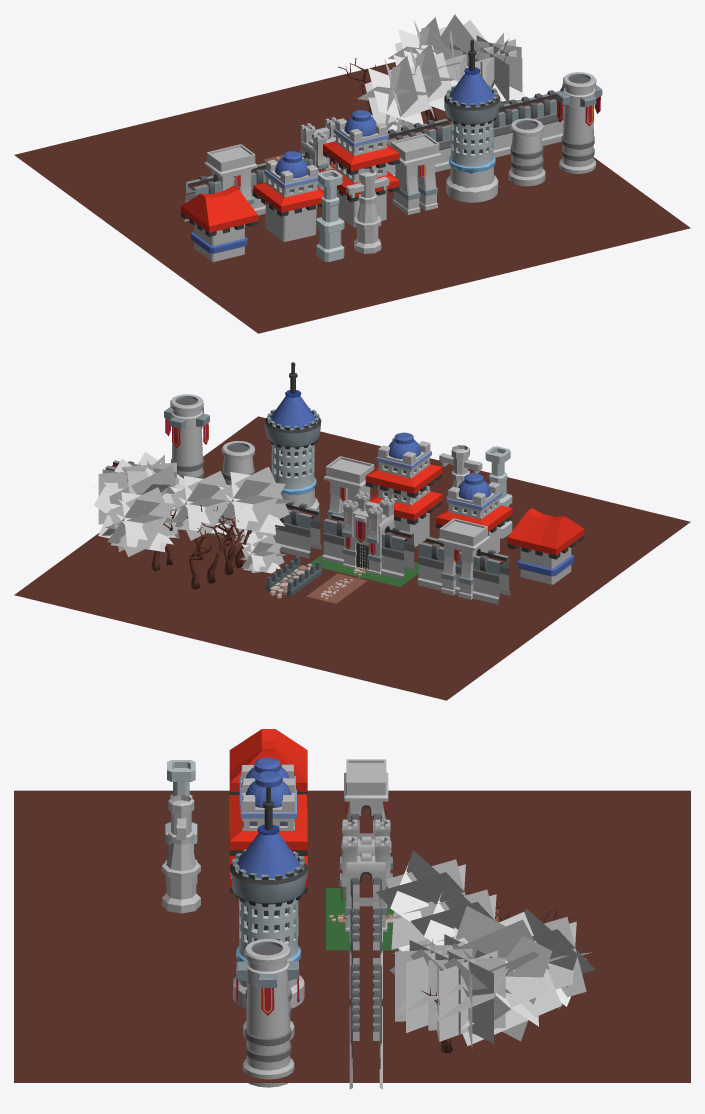
The model's file is TownHall.fbx.
3 views of the same model, one above another, from view 1: azimuth 30°, elevation 25°; view 2: azimuth 150°, elevation 25°; view 3: azimuth 270°, elevation 25° (orthographic). The views are drawn at different scales.
Visible parts, largest first — view 1: Plane, Palace.tower, Palace.tower2, Palace.tower1, Small house, Tower.tall, Vert.003, Wall.tower, Vert.007, Wall_ArcheryTower, Wall.long, Vert.005 (+6 smaller); view 2: Plane, Wall_ArcheryTower, Gate_wall, Vert.005, Palace.tower2, Palace.tower, Small house, Vert.003, Palace.tower1, Tower.tall, Vert.006, Wall.short (+10 smaller); view 3: Plane, Vert.005, Vert.007, Palace.tower, Tower.tall, Palace.tower2, Gate_wall, Vert.003, Cylinder, Wall.long, Wall_ArcheryTower, Small house (+5 smaller).
Part boxes in pixels (x1,y1,x2,y2): Plane: [14, 62, 690, 333]; Palace.tower: [444, 39, 500, 202]; Palace.tower2: [323, 110, 399, 227]; Palace.tower1: [253, 151, 323, 241]; Small house: [181, 185, 257, 261]; Tower.tall: [556, 72, 602, 173]; Vert.003: [357, 56, 431, 132]; Wall.tower: [391, 133, 441, 214]; Vert.007: [442, 33, 524, 104]; Wall_ArcheryTower: [184, 144, 266, 221]; Wall.long: [493, 87, 564, 157]; Vert.005: [388, 14, 495, 115]; Plane: [14, 416, 690, 700]; Wall_ArcheryTower: [417, 518, 510, 604]; Gate_wall: [322, 491, 415, 579]; Vert.005: [98, 465, 184, 571]; Palace.tower2: [365, 432, 442, 547]; Palace.tower: [264, 362, 321, 509]; Small house: [507, 508, 584, 584]; Vert.003: [216, 466, 294, 567]; Palace.tower1: [436, 473, 512, 553]; Tower.tall: [164, 394, 209, 478]; Vert.006: [170, 471, 232, 559]; Wall.short: [273, 501, 321, 558]; Plane: [14, 790, 690, 1082]; Vert.005: [454, 906, 595, 1046]; Vert.007: [390, 934, 511, 1053]; Palace.tower: [229, 786, 307, 1008]; Tower.tall: [236, 939, 299, 1087]; Palace.tower2: [229, 771, 307, 893]; Gate_wall: [329, 819, 393, 941]; Vert.003: [376, 850, 466, 954]; Cylinder: [161, 795, 200, 913]; Wall.long: [349, 958, 382, 1089]; Wall_ArcheryTower: [344, 759, 388, 839]; Small house: [229, 729, 307, 797].
Size of the model in its own units: 3715 by 1233 by 3467.
Materials: 2 (1 with a texture image).
